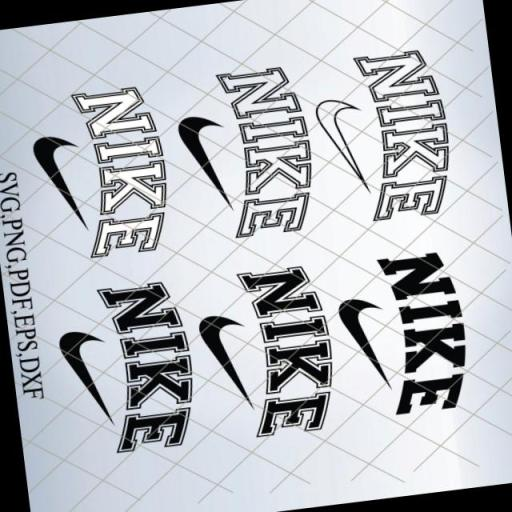Nike: (373, 249, 471, 419), (171, 109, 233, 217)
